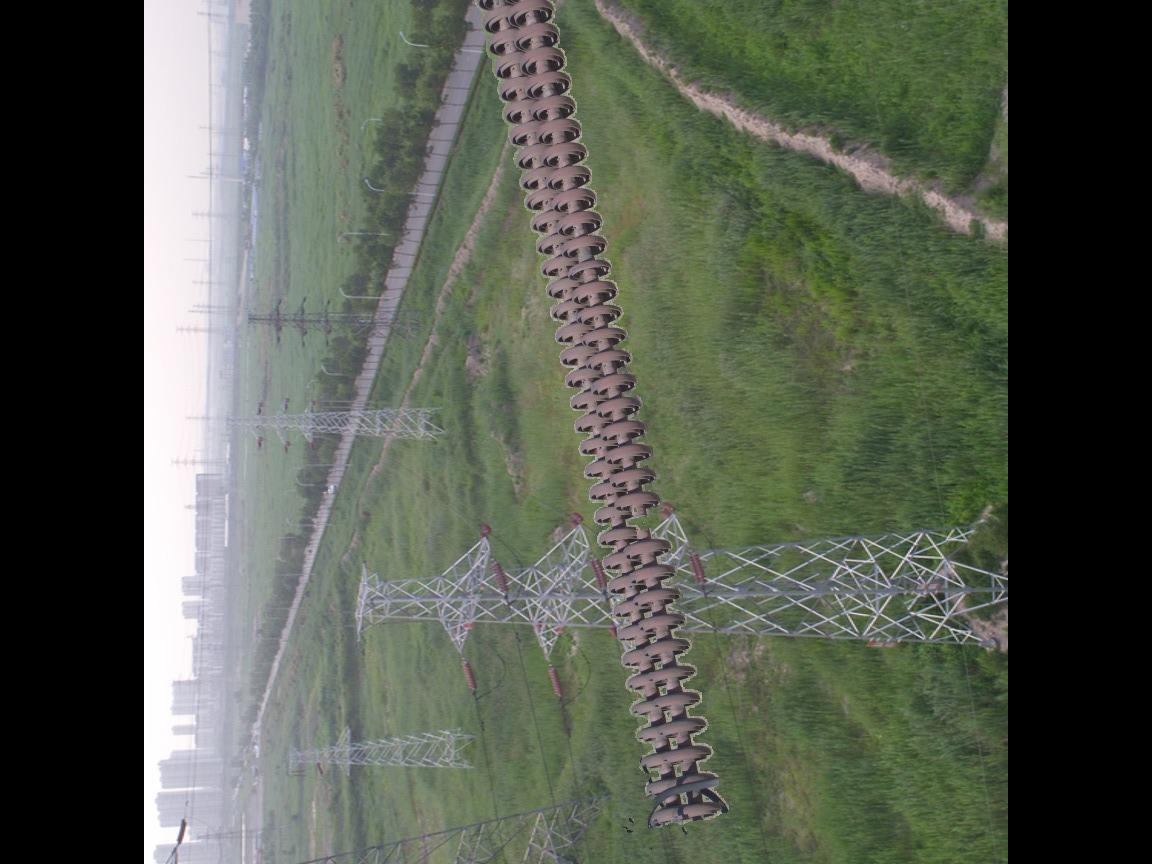insulator: (473, 1, 727, 832)
insulator_stringdrop: (609, 487, 674, 560)
